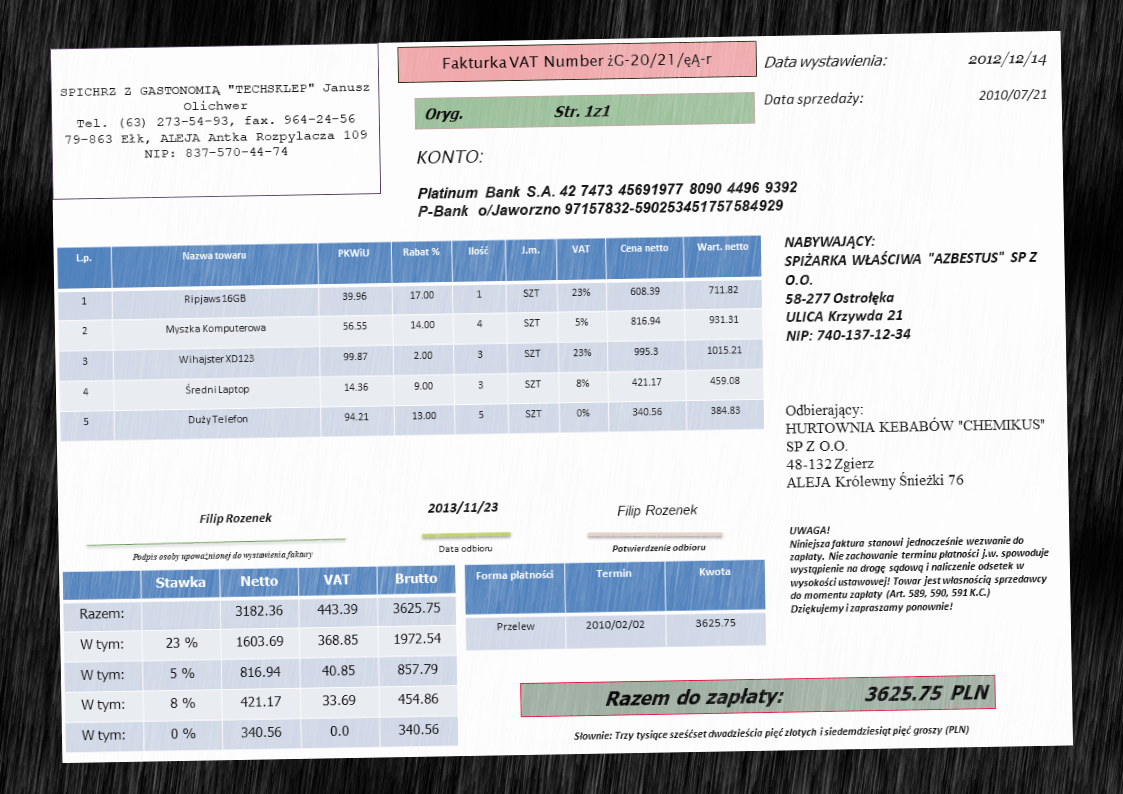Table: (55, 233, 766, 443), (60, 564, 459, 753), (463, 556, 769, 653)
TextBox: (781, 229, 1043, 345), (59, 78, 371, 165), (787, 519, 1052, 616), (783, 398, 1047, 491), (415, 177, 803, 223), (602, 678, 990, 711), (570, 722, 972, 745), (439, 48, 716, 75), (423, 101, 613, 125), (130, 547, 315, 564), (760, 51, 891, 71), (760, 90, 866, 110), (613, 500, 701, 520), (966, 49, 1049, 69), (198, 508, 273, 528), (975, 84, 1049, 104), (424, 498, 499, 517), (414, 147, 485, 167), (610, 541, 709, 555), (434, 540, 494, 557)
